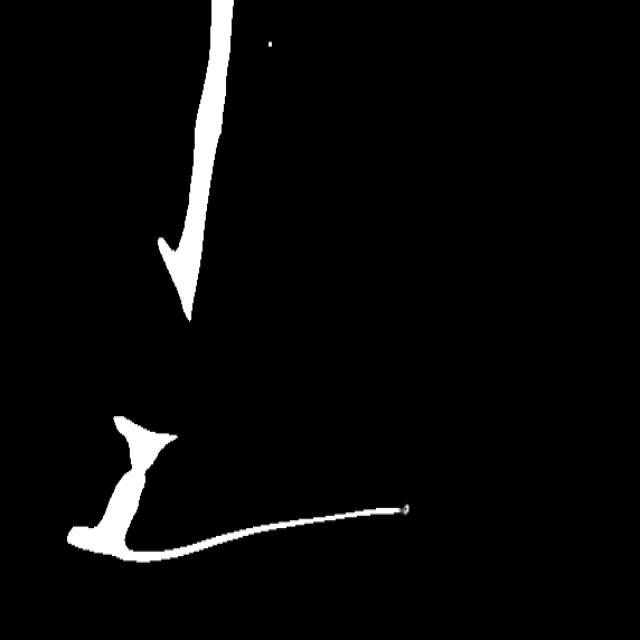stp: (390, 501, 415, 520)
